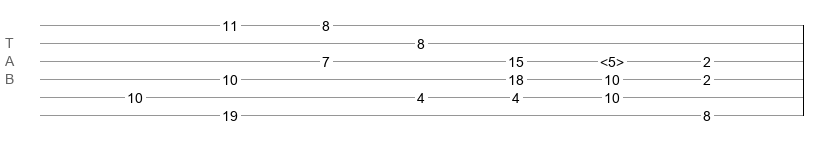10: (127, 90, 143, 100), (222, 72, 238, 82), (604, 72, 620, 82), (604, 90, 620, 100)
11: (222, 18, 238, 28)
15: (508, 54, 524, 64)
18: (508, 72, 524, 82)
19: (222, 108, 238, 118)
2: (703, 54, 711, 64), (703, 72, 711, 82)
4: (417, 90, 425, 100), (512, 90, 520, 100)
7: (322, 54, 330, 64)
8: (322, 18, 330, 28), (417, 36, 425, 46), (703, 108, 711, 118)
harmonic: (600, 54, 624, 64)
